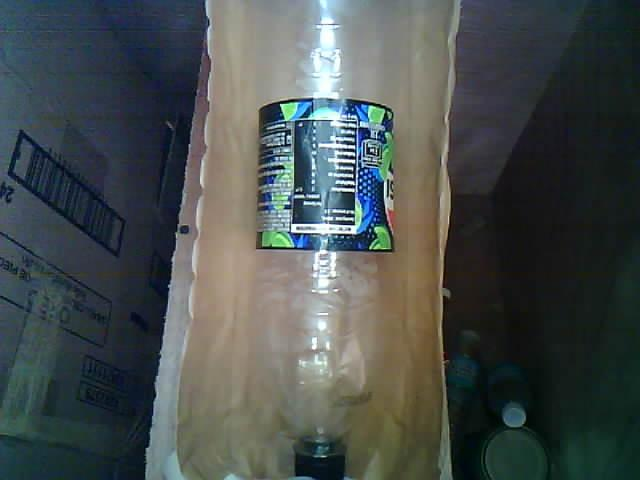large_bottle: (232, 0, 412, 480)
